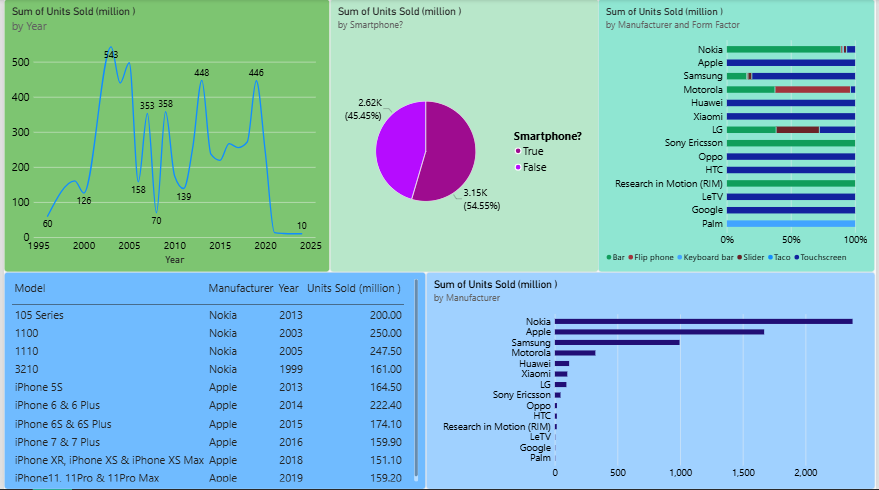

This screenshot's page, from the dashboard's own definition file:
{"tool":"powerbi","page":{"name":"Page 1","canvas":[1920,1080],"ordinal":0},"visuals":[{"type":"lineChart","fields":{"Category":["top 120 best-selling mobile phones.Year"],"Y":["Sum(top 120 best-selling mobile phones.Units Sold (million ))"]},"box":[0,0,718.1,602.2],"z":0},{"type":"clusteredBarChart","fields":{"Category":["top 120 best-selling mobile phones.Manufacturer"],"Y":["Sum(top 120 best-selling mobile phones.Units Sold (million ))"]},"box":[929.8,602.2,990.2,478.7],"z":1000},{"type":"pieChart","fields":{"Category":["top 120 best-selling mobile phones.Smartphone?"],"Y":["Sum(top 120 best-selling mobile phones.Units Sold (million ))"]},"box":[718.1,0,592.1,602.2],"z":2000},{"type":"tableEx","fields":{"Values":["top 120 best-selling mobile phones.Model","top 120 best-selling mobile phones.Manufacturer","top 120 best-selling mobile phones.Year","top 120 best-selling mobile phones.Units Sold (million )"]},"box":[0,602.2,929.8,478.7],"z":3000},{"type":"hundredPercentStackedBarChart","fields":{"Category":["top 120 best-selling mobile phones.Manufacturer"],"Series":["top 120 best-selling mobile phones.Form Factor"],"Y":["Sum(top 120 best-selling mobile phones.Units Sold (million ))"]},"box":[1310.2,0,609.8,602.2],"z":4000}]}

Visuals, with their boxes in screenshot pixels (x1, y1, x2, y2), scaled from the page's 1920x1080 canvas onto the 879x490 screenshot:
lineChart - top 120 best-selling mobile phones.Year x Sum(top 120 best-selling mobile phones.Units Sold (million )): (0,0,329,273)
clusteredBarChart - top 120 best-selling mobile phones.Manufacturer x Sum(top 120 best-selling mobile phones.Units Sold (million )): (426,273,878,489)
pieChart - top 120 best-selling mobile phones.Smartphone? x Sum(top 120 best-selling mobile phones.Units Sold (million )): (329,0,600,273)
tableEx - top 120 best-selling mobile phones.Model x top 120 best-selling mobile phones.Manufacturer: (0,273,426,489)
hundredPercentStackedBarChart - top 120 best-selling mobile phones.Manufacturer x top 120 best-selling mobile phones.Form Factor: (600,0,878,273)
